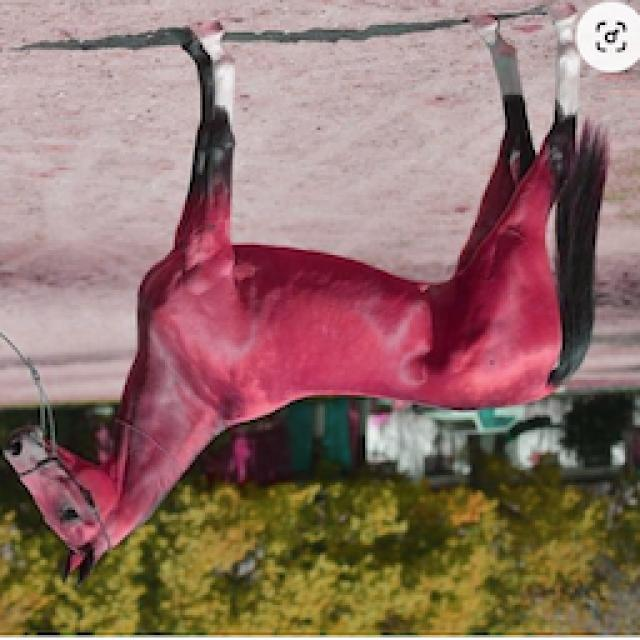Horse: (0, 2, 620, 590)
